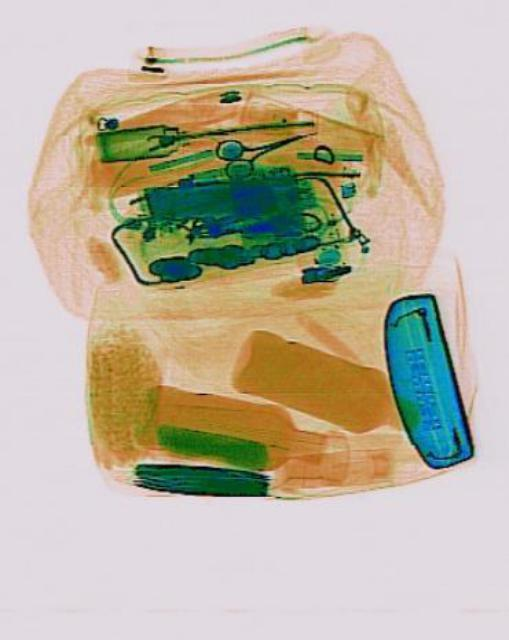Scissors: (210, 108, 321, 182)
